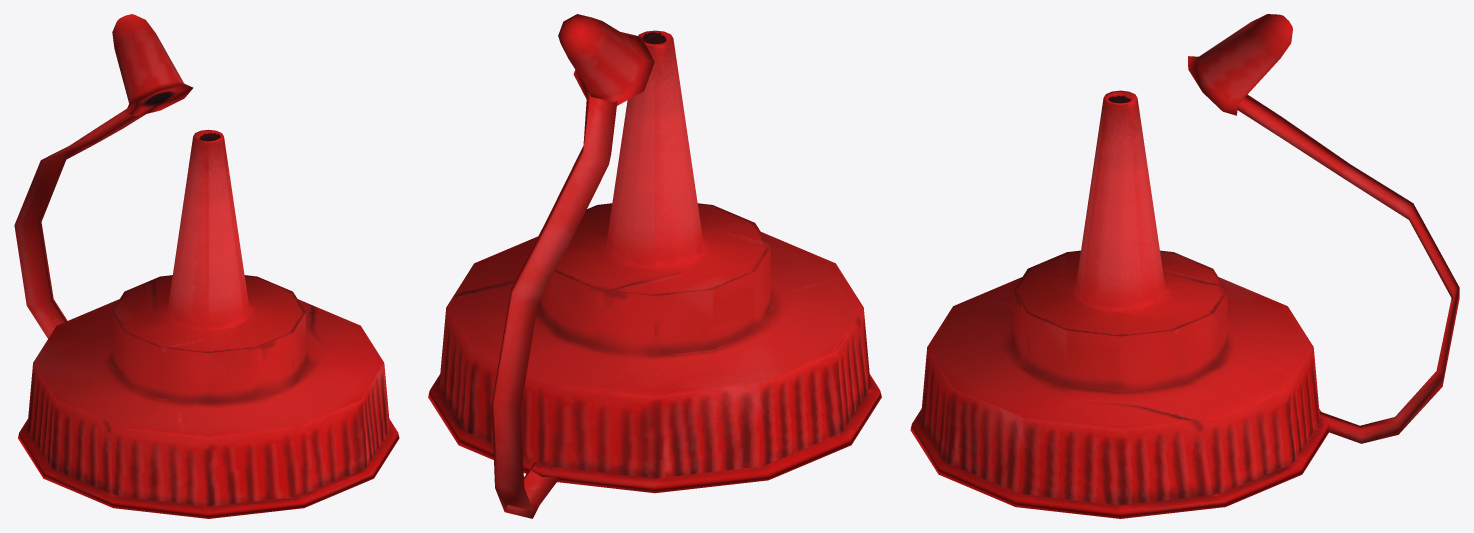
Rendered from sauceCap.glb.
3 views of the same model, side by side, from view 1: azimuth 30°, elevation 25°; view 2: azimuth 150°, elevation 25°; view 3: azimuth 270°, elevation 25° (orthographic). The views are drawn at different scales.
Visible parts, largest first — view 1: Hat_SauceCap; view 2: Hat_SauceCap; view 3: Hat_SauceCap.
Part boxes in pixels (x1,y1,x2,y2): Hat_SauceCap: (14, 14, 399, 518); Hat_SauceCap: (428, 14, 881, 518); Hat_SauceCap: (910, 14, 1459, 518).
Bounding box in the file's own units: 1.02 × 1.12 × 1.33.
1 material, 1 textured.
